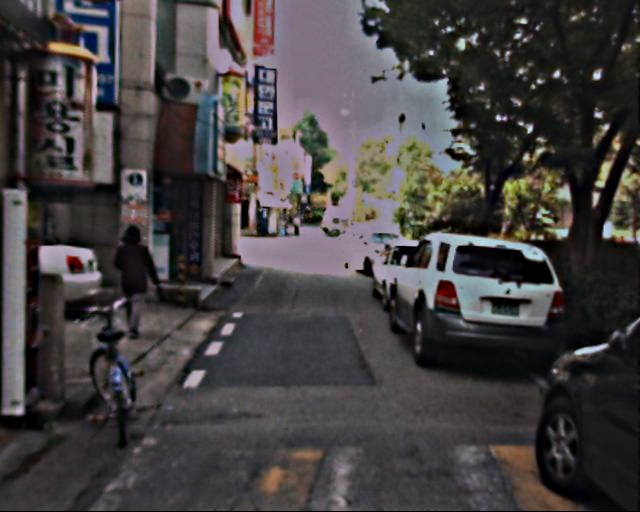person: (111, 220, 164, 337)
